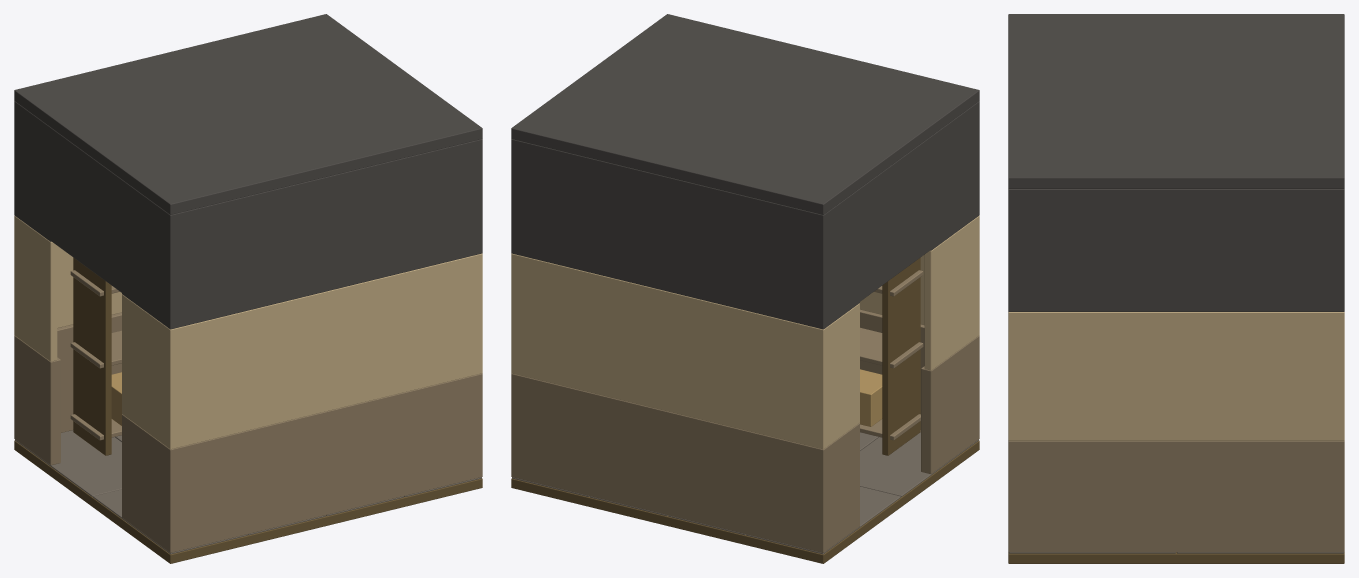
Rendered from gen-coldstore.glb.
3 renders of one model, left to right at view 1: azimuth 30°, elevation 25°; view 2: azimuth 150°, elevation 25°; view 3: azimuth 270°, elevation 25°, orthographic. The views are drawn at different scales.
Visible parts, largest first — view 1: THE COLDSTORE; view 2: THE COLDSTORE; view 3: THE COLDSTORE.
Boxes of the visible parts, x1,y1,x2,y2 form: THE COLDSTORE: (14,14,482,563); THE COLDSTORE: (511,14,979,563); THE COLDSTORE: (1008,14,1344,563).
Size of the model in its own units: 3 by 3.3 by 2.6.
